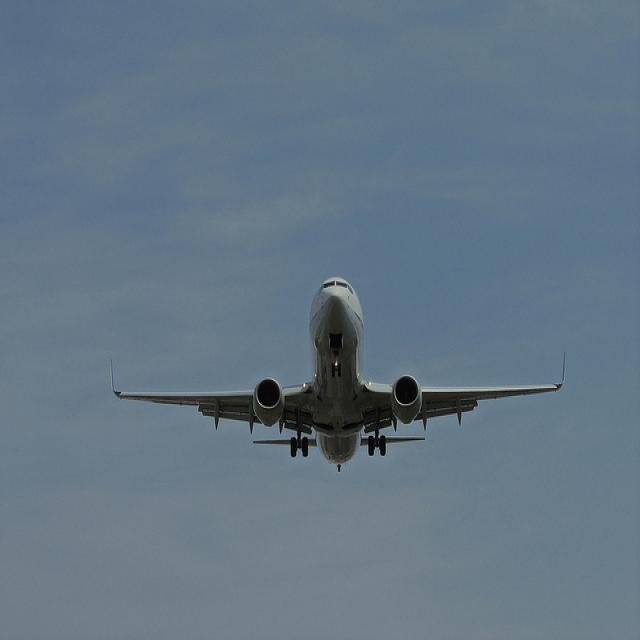airplane: (107, 274, 569, 474)
